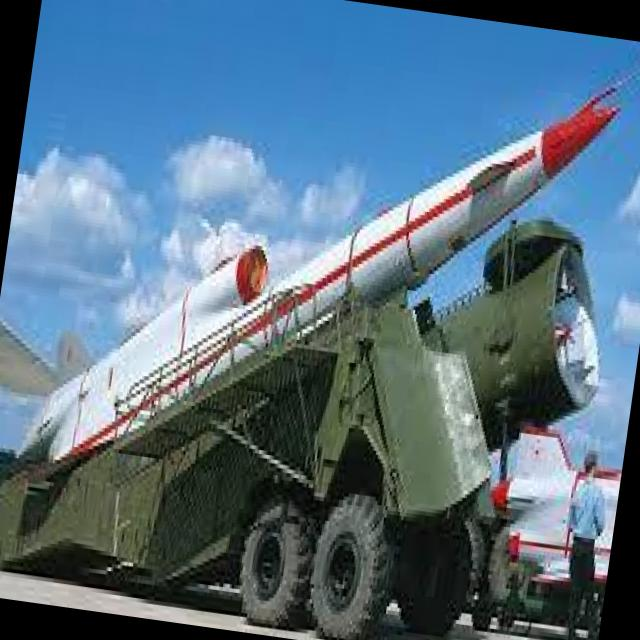rocket: (28, 15, 625, 539)
